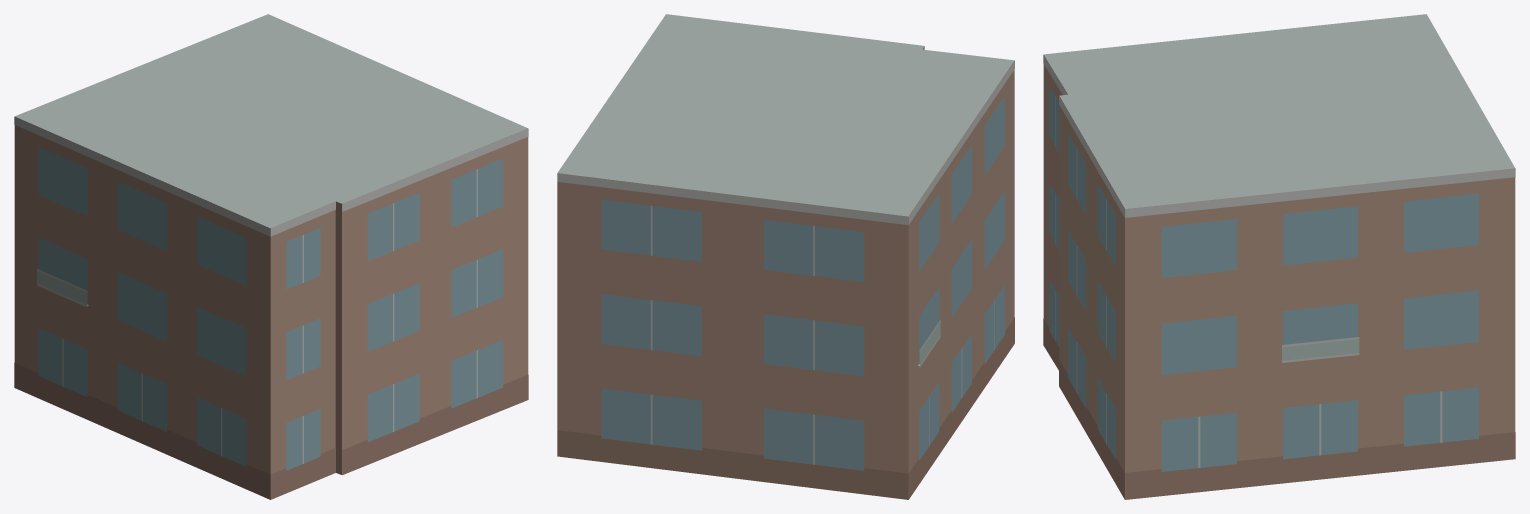
Rendered from survey-upis-32693645.glb.
3 views of the same model, side by side, from view 1: azimuth 30°, elevation 25°; view 2: azimuth 150°, elevation 25°; view 3: azimuth 270°, elevation 25° (orthographic). The views are drawn at different scales.
Visible parts, largest first — view 1: survey-upis-32693645.tmp; view 2: survey-upis-32693645.tmp; view 3: survey-upis-32693645.tmp.
Boxes of the visible parts, <box> form: survey-upis-32693645.tmp: <box>14,14,528,499</box>; survey-upis-32693645.tmp: <box>557,14,1014,499</box>; survey-upis-32693645.tmp: <box>1043,14,1515,499</box>.
Bounding box in the file's own units: 11.52 × 8 × 11.78.
